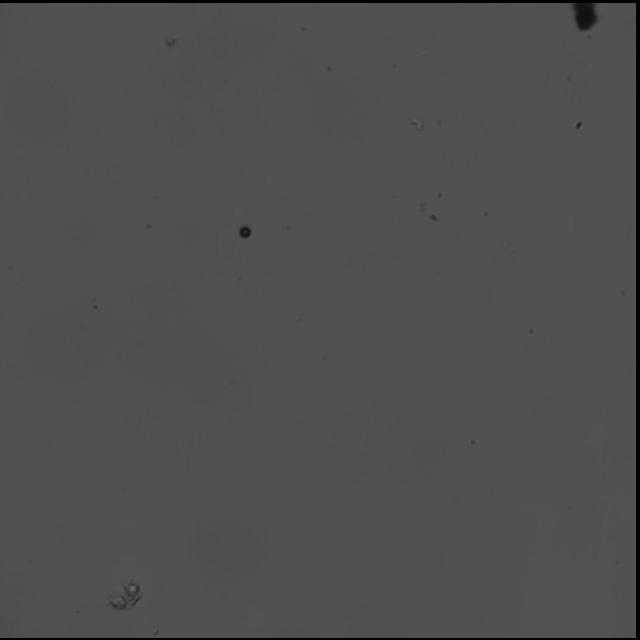microbeads: (238, 224, 252, 238)
